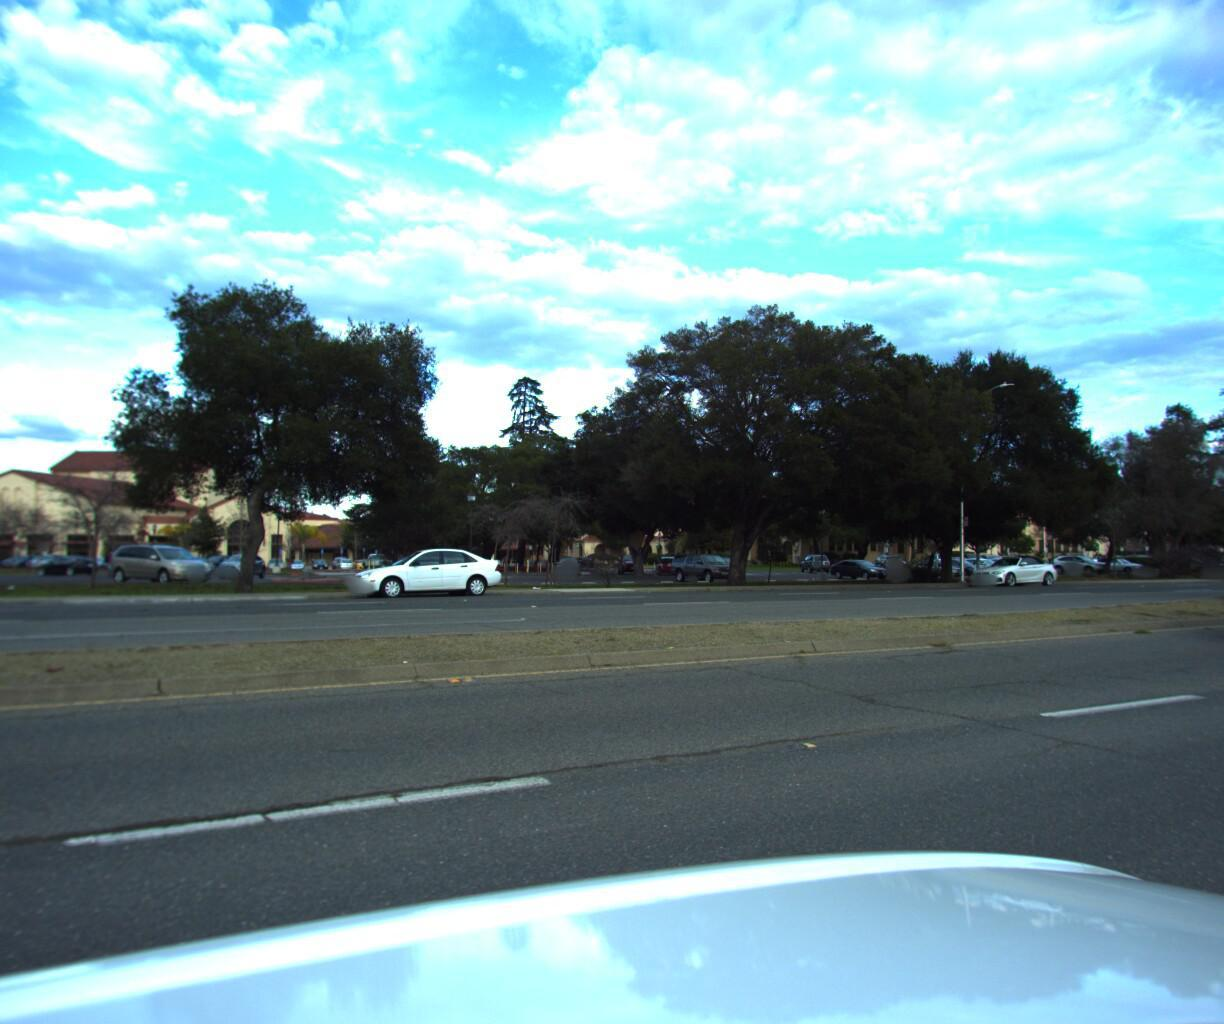car: (342, 543, 509, 602), (961, 552, 1054, 584), (1214, 521, 1224, 648)
